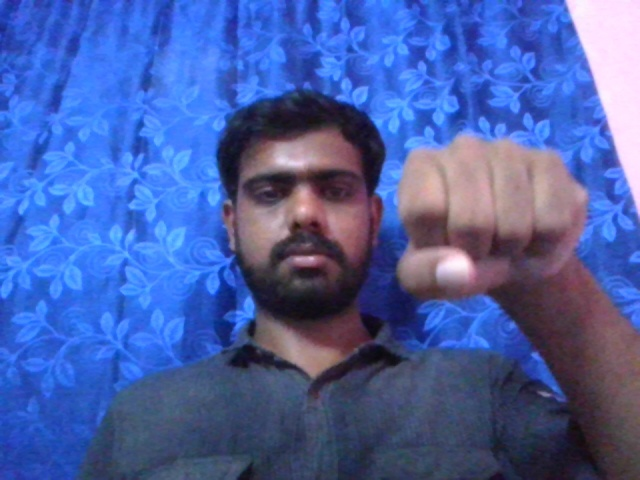Yes: (395, 129, 590, 299)
